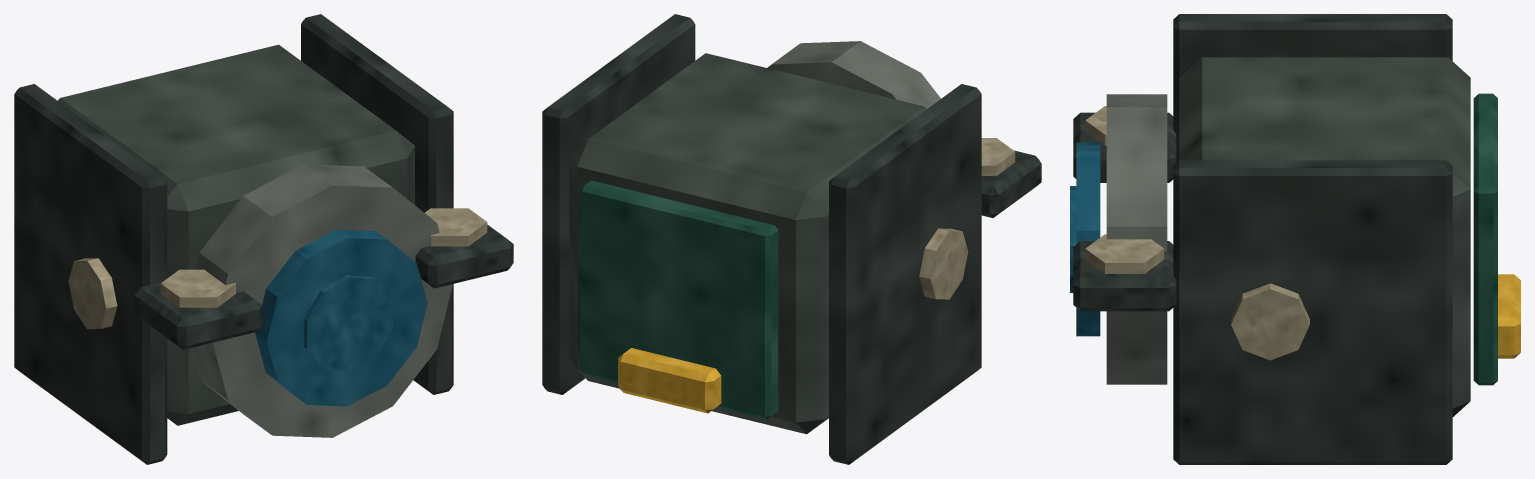
Rendered from DR_FpvCamera.fbx.
The picture shows the model from 3 angles, left to right: view 1: azimuth 30°, elevation 25°; view 2: azimuth 150°, elevation 25°; view 3: azimuth 270°, elevation 25°; orthographic projection. The views are drawn at different scales.
Visible parts, largest first — view 1: CameraSidePlate.-1, CameraHousing, CameraBezel, CameraGlass, CameraSidePlate.1, CameraInnerLens, CameraMountEar.-1, CameraMountEar.1, CameraPivot.-1, CameraFastenerBoss.-1, CameraFastenerBoss.1; view 2: CameraHousing, CameraSidePlate.-1, CameraBoard, CameraSidePlate.1, CameraBezel, CameraRibbonConnector, CameraPivot.-1, CameraMountEar.-1, CameraFastenerBoss.-1; view 3: CameraSidePlate.1, CameraHousing, CameraBezel, CameraSidePlate.-1, CameraBoard, CameraMountEar.1, CameraPivot.1, CameraGlass, CameraFastenerBoss.1, CameraRibbonConnector, CameraMountEar.-1, CameraInnerLens (+1 smaller).
Part boxes in pixels (x1=…): CameraSidePlate.-1: x1=14, y1=84, x2=167, y2=464; CameraHousing: x1=58, y1=44, x2=414, y2=425; CameraBezel: x1=191, y1=164, x2=452, y2=437; CameraGlass: x1=255, y1=229, x2=427, y2=406; CameraSidePlate.1: x1=301, y1=14, x2=453, y2=394; CameraInnerLens: x1=304, y1=275, x2=392, y2=371; CameraMountEar.-1: x1=134, y1=282, x2=262, y2=349; CameraMountEar.1: x1=415, y1=224, x2=513, y2=288; CameraPivot.-1: x1=68, y1=258, x2=117, y2=329; CameraFastenerBoss.-1: x1=160, y1=269, x2=235, y2=307; CameraFastenerBoss.1: x1=425, y1=208, x2=487, y2=246; CameraHousing: x1=569, y1=53, x2=926, y2=434; CameraSidePlate.-1: x1=829, y1=84, x2=981, y2=464; CameraBoard: x1=580, y1=180, x2=778, y2=419; CameraSidePlate.1: x1=542, y1=14, x2=695, y2=394; CameraBezel: x1=767, y1=41, x2=940, y2=108; CameraRibbonConnector: x1=618, y1=348, x2=721, y2=413; CameraPivot.-1: x1=919, y1=228, x2=968, y2=299; CameraMountEar.-1: x1=981, y1=150, x2=1041, y2=217; CameraFastenerBoss.-1: x1=981, y1=138, x2=1015, y2=175; CameraSidePlate.1: x1=1173, y1=160, x2=1452, y2=464; CameraHousing: x1=1179, y1=57, x2=1470, y2=416; CameraBezel: x1=1106, y1=94, x2=1167, y2=384; CameraSidePlate.-1: x1=1173, y1=14, x2=1452, y2=162; CameraBoard: x1=1473, y1=93, x2=1497, y2=385; CameraMountEar.1: x1=1073, y1=241, x2=1176, y2=311; CameraPivot.1: x1=1231, y1=283, x2=1309, y2=360; CameraGlass: x1=1076, y1=142, x2=1100, y2=336; CameraFastenerBoss.1: x1=1085, y1=234, x2=1164, y2=273; CameraRibbonConnector: x1=1498, y1=274, x2=1520, y2=358; CameraMountEar.-1: x1=1073, y1=112, x2=1176, y2=182; CameraInnerLens: x1=1070, y1=186, x2=1076, y2=292.
Bounding box in the file's own units: 1.34 × 1.08 × 1.48.
Materials: 1 (1 with a texture image).
